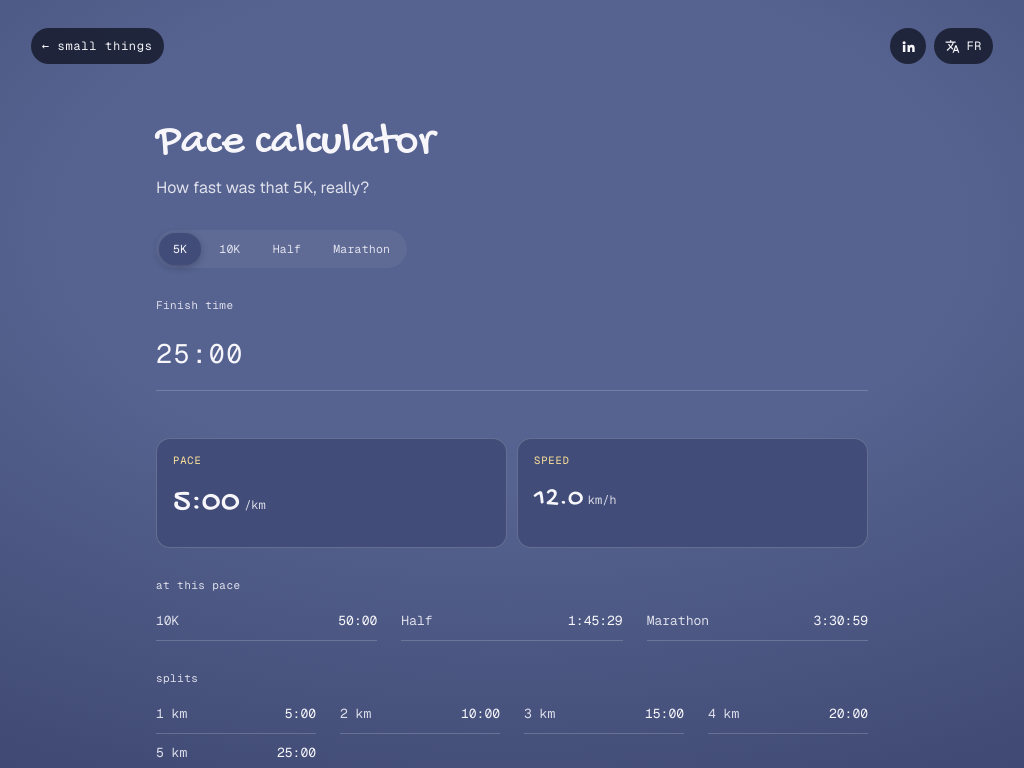
Scenario: Pace › explains a time it can't read
Replace the text in the field labelled "Finish time" with "25:99" at (512, 356), box [156,321,868,391]
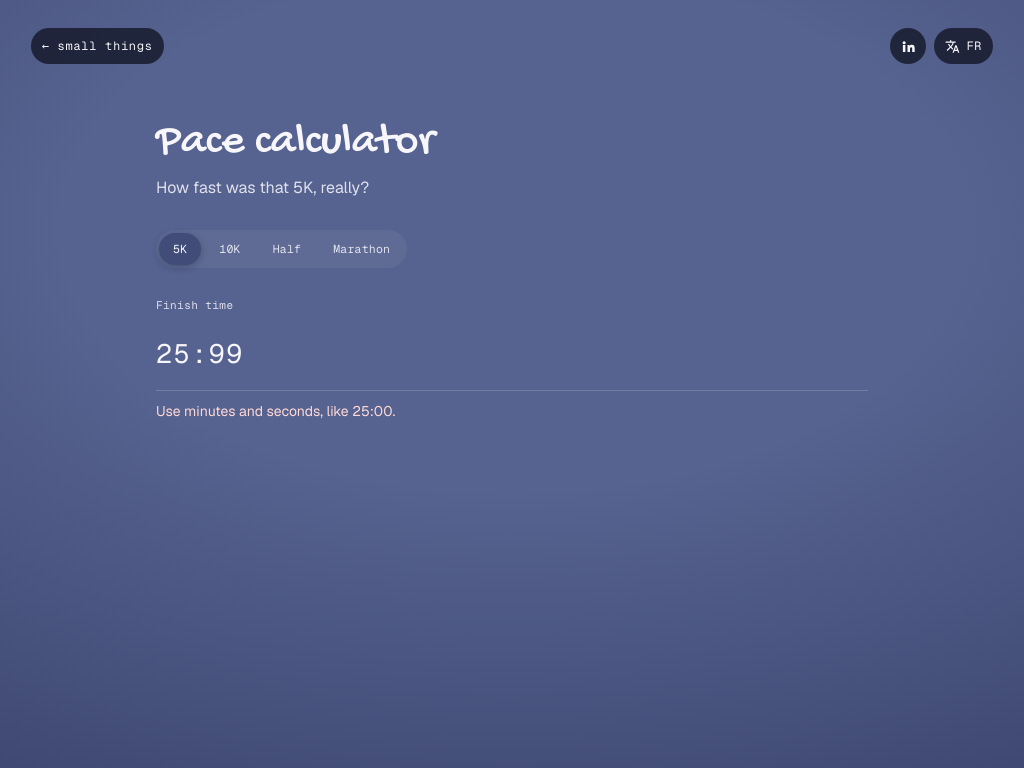
Expected: the text "Use minutes and seconds, like 25:00." is shown, [156,402,395,420]
